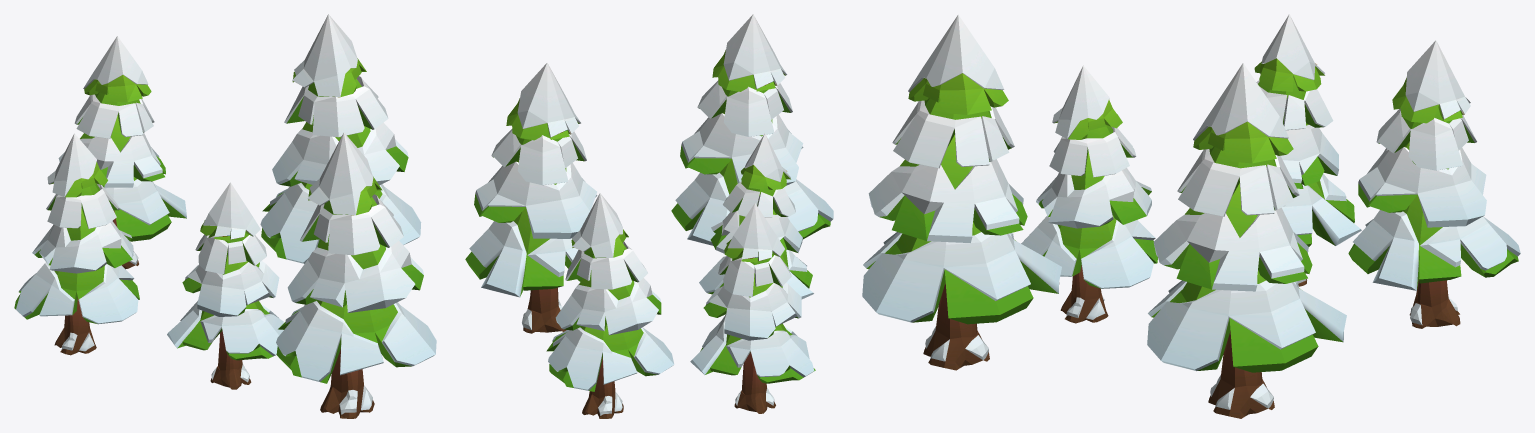
3 renders of one model, left to right at view 1: azimuth 30°, elevation 25°; view 2: azimuth 150°, elevation 25°; view 3: azimuth 270°, elevation 25°, orthographic. The views are drawn at different scales.
Visible parts, largest first — view 1: SnowyTree (9), SnowyTree (6), SnowyTree (10), SnowyTree (8), SnowyTree (7); view 2: SnowyTree (6), SnowyTree (9), SnowyTree (7), SnowyTree (10), SnowyTree (8); view 3: SnowyTree (9), SnowyTree (6), SnowyTree (7), SnowyTree (8), SnowyTree (10).
Part boxes in pixels (box(x1,y1,x2,y2)): SnowyTree (9): box(276, 132, 436, 418); SnowyTree (6): box(260, 14, 421, 263); SnowyTree (10): box(14, 133, 139, 355); SnowyTree (8): box(167, 182, 283, 389); SnowyTree (7): box(58, 36, 186, 269); SnowyTree (6): box(465, 63, 597, 333); SnowyTree (9): box(671, 14, 833, 245); SnowyTree (7): box(546, 193, 674, 418); SnowyTree (10): box(690, 203, 815, 413); SnowyTree (8): box(699, 133, 813, 299); SnowyTree (9): box(862, 14, 1061, 370); SnowyTree (6): box(1147, 63, 1346, 418); SnowyTree (7): box(1348, 40, 1520, 328); SnowyTree (8): box(1021, 65, 1157, 323); SnowyTree (10): box(1254, 14, 1361, 286).
Bounding box in the file's own units: 665 × 500 × 837.
1 material, 1 textured.
